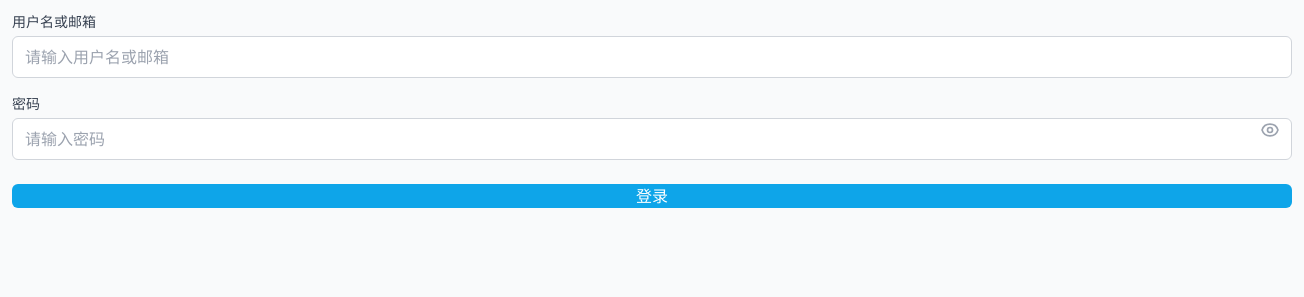
Scenario: LoginForm - 提交失败场景 › 应该处理账号被禁用的错误
This screenshot has width=1304, height=297.
Type "test@example.com" into the field labelled "用户名或邮箱" at {"x": 652, "y": 57}, box [12,36,1292,78]
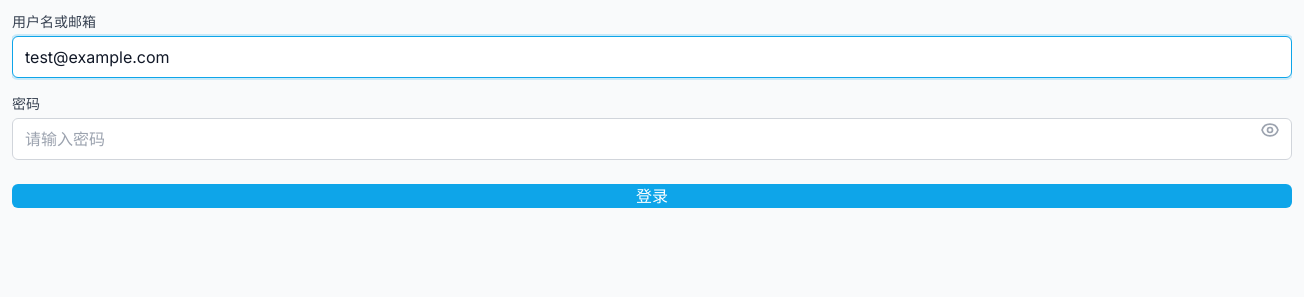
Type "password123" into the password field labelled "密码" at {"x": 652, "y": 139}, box [12,118,1292,160]
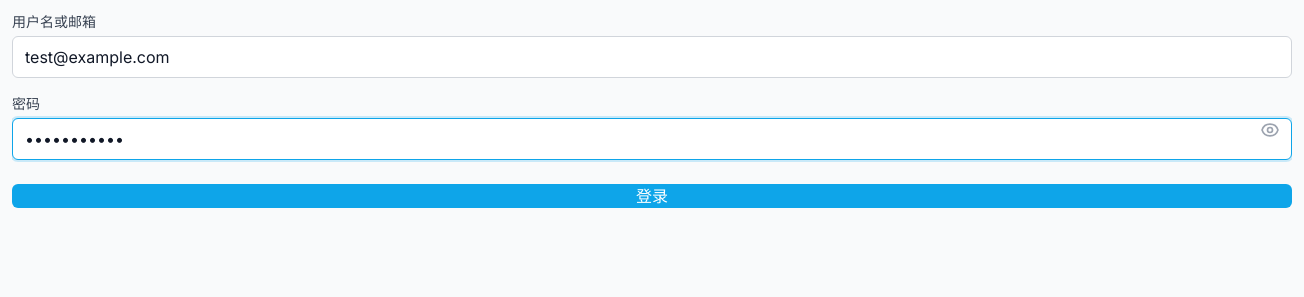
Click the button "登录" at {"x": 652, "y": 196}, box [12,184,1292,208]
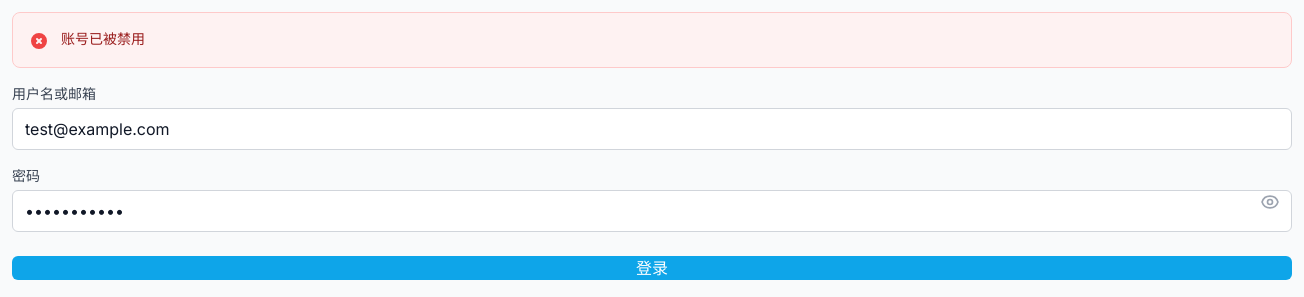
Check: the text "账号已被禁用" is shown, box [61,30,145,47]
